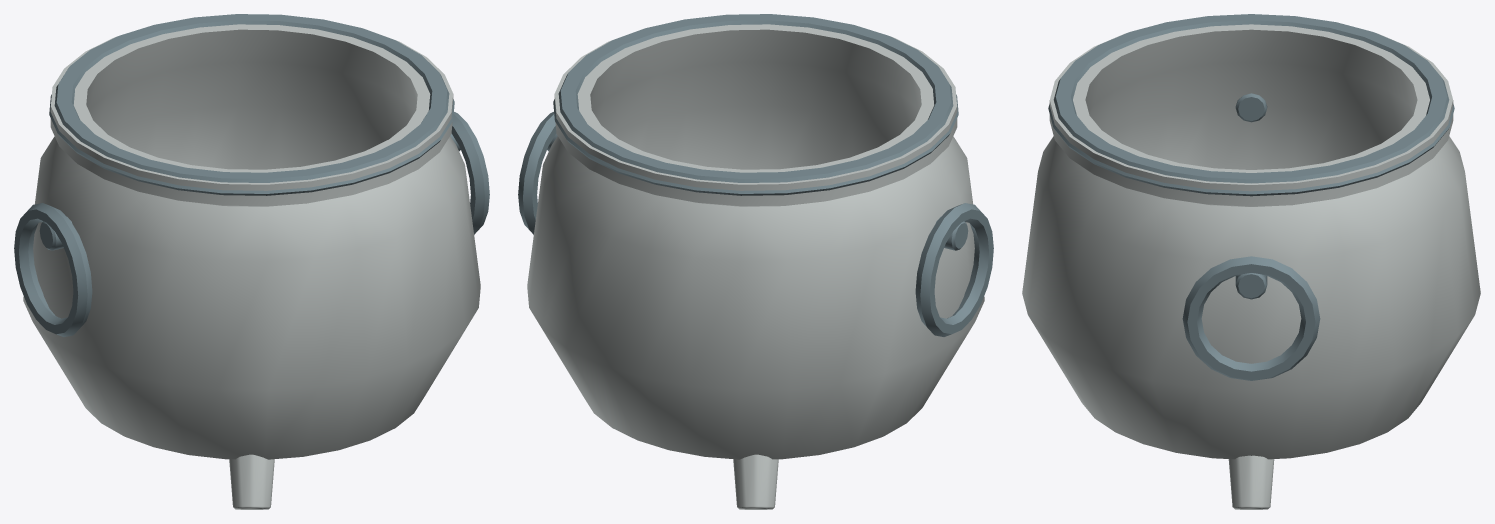
The model's file is cauldron.glb.
3 views of the same model, side by side, from view 1: azimuth 30°, elevation 25°; view 2: azimuth 150°, elevation 25°; view 3: azimuth 270°, elevation 25° (orthographic).
Visible parts, largest first — view 1: open_cauldron, rolled_rim, handle_ring, foot.001, handle_ring.001; view 2: open_cauldron, rolled_rim, handle_ring, foot.002, handle_ring.001; view 3: open_cauldron, rolled_rim, handle_ring.001, foot, handle_mount, handle_mount.001.
Boxes of the visible parts, <box> form: open_cauldron: <box>23,24,480,459</box>; rolled_rim: <box>49,14,454,195</box>; handle_ring: <box>14,203,92,336</box>; foot.001: <box>229,454,274,509</box>; handle_ring.001: <box>451,112,489,234</box>; open_cauldron: <box>527,24,984,459</box>; rolled_rim: <box>553,14,958,195</box>; handle_ring: <box>915,203,993,336</box>; foot.002: <box>733,454,778,509</box>; handle_ring.001: <box>518,112,556,234</box>; open_cauldron: <box>1022,24,1480,459</box>; rolled_rim: <box>1048,14,1454,196</box>; handle_ring.001: <box>1182,256,1320,380</box>; foot: <box>1228,455,1274,509</box>; handle_mount: <box>1235,93,1267,122</box>; handle_mount.001: <box>1235,273,1267,299</box>.
Size of the model in its own units: 0.6008 by 0.4793 by 0.58.
